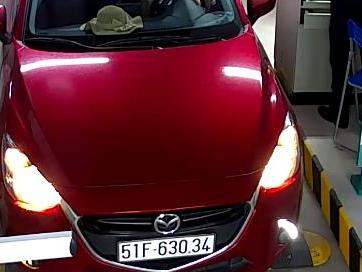number: (117, 236, 214, 261)
